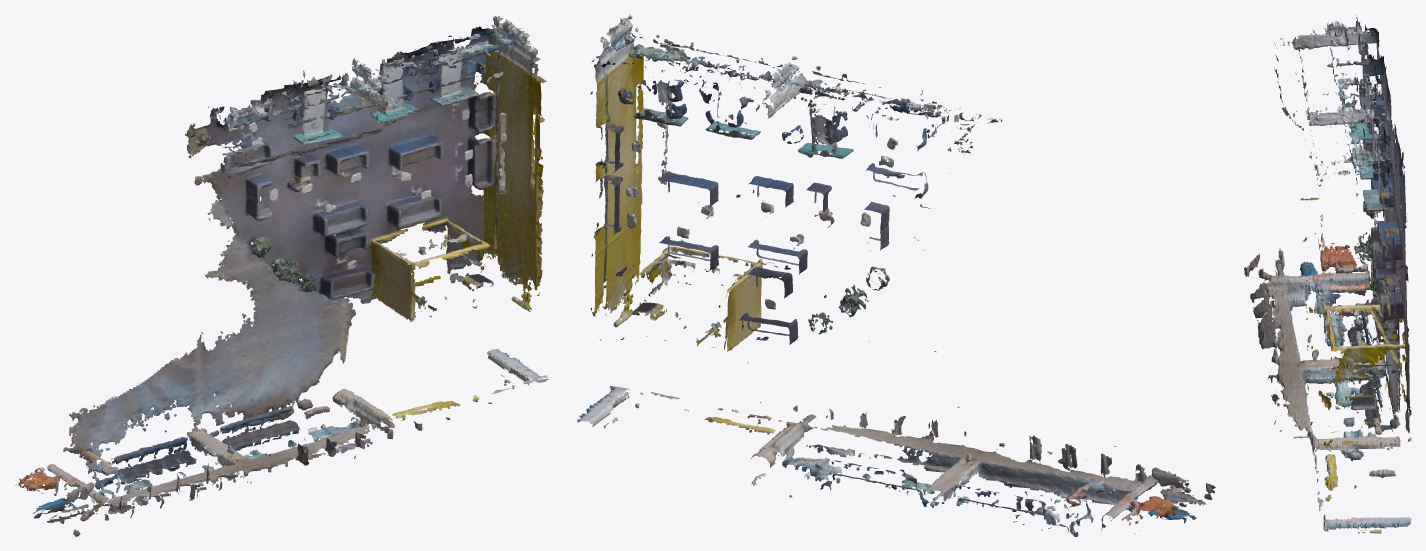
File: lounge_ours.glb
The picture shows the model from 3 angles, left to right: view 1: azimuth 30°, elevation 25°; view 2: azimuth 150°, elevation 25°; view 3: azimuth 270°, elevation 25°; orthographic projection. The views are drawn at different scales.
Visible parts, largest first — view 1: output.ply; view 2: output.ply; view 3: output.ply.
Part boxes in pixels (x1=…): output.ply: x1=15, y1=15, x2=548, y2=536; output.ply: x1=577, y1=14, x2=1215, y2=536; output.ply: x1=1244, y1=15, x2=1411, y2=533.
Bounding box in the file's own units: 20.7 × 14.97 × 5.48.
